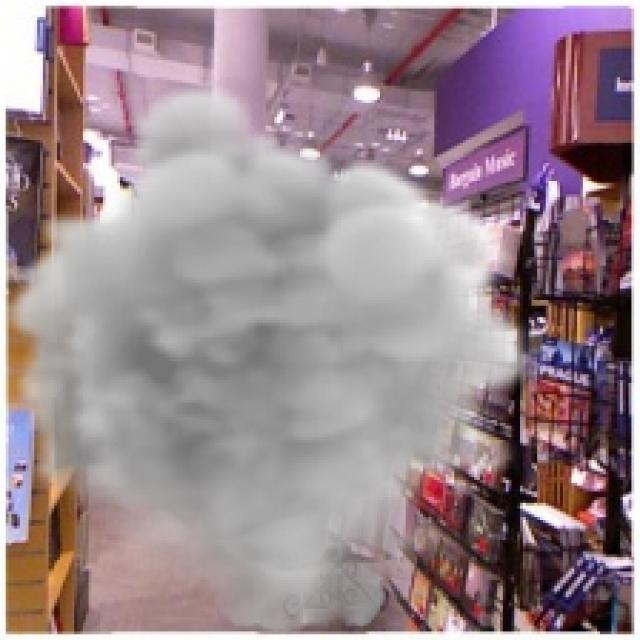Smoke: (2, 77, 538, 637)
